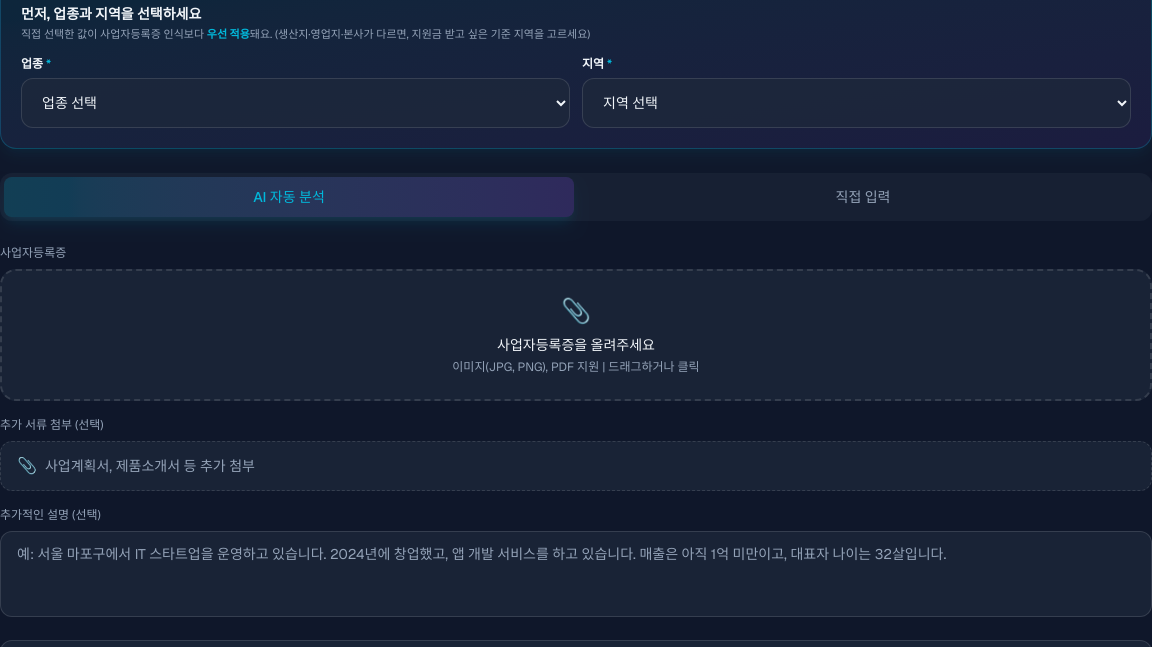
Scenario: ConditionForm: AI 분석 fetch › 분석 성공 시 추출된 정보 그리드 노출
The image size is (1152, 647).
Step 1. Replace the text in the text box with placeholder "서울 마포구에서 IT 스타트업" with "테스트" → {"x": 576, "y": 574}, box [0,531,1151,617]
(page scrolled)
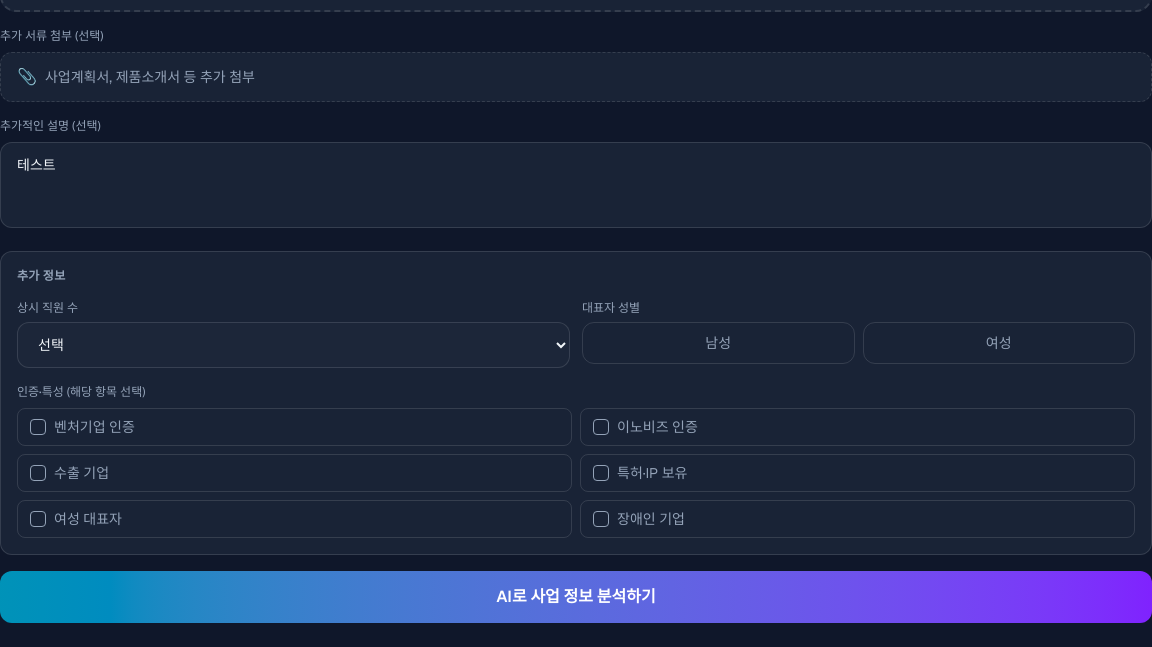
Step 2. Click the button "AI로 사업 정보 분석하기" → {"x": 576, "y": 597}, box [0,571,1151,623]
(page scrolled)
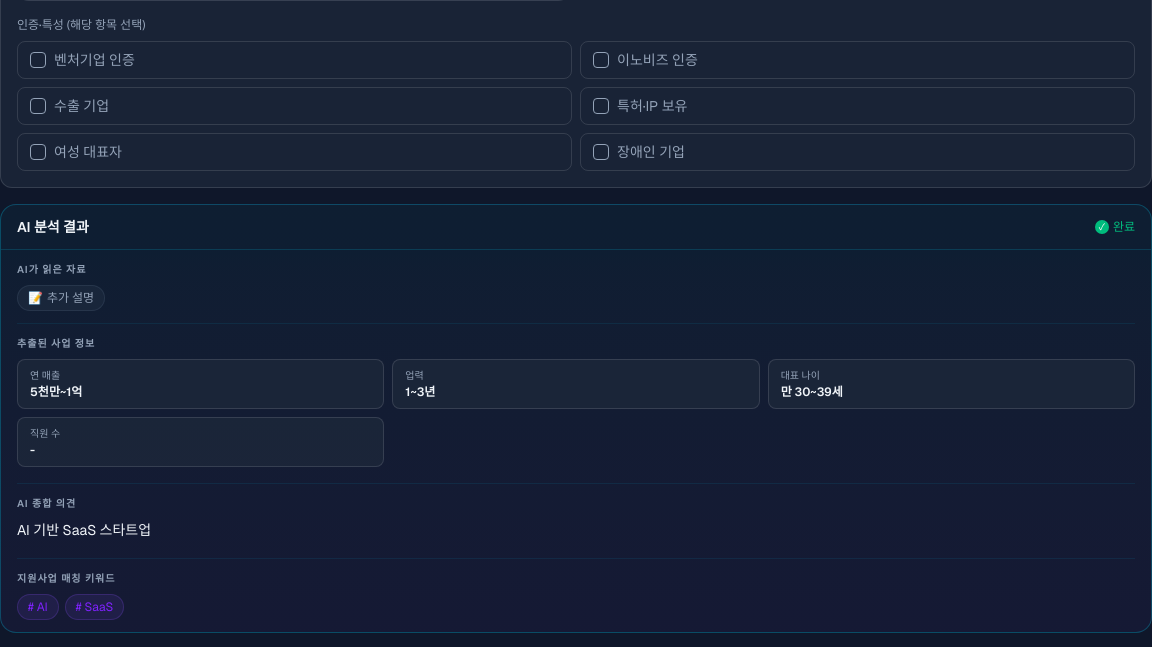
Result: the text "추출된 사업 정보" is shown at [17,337,95,350]
